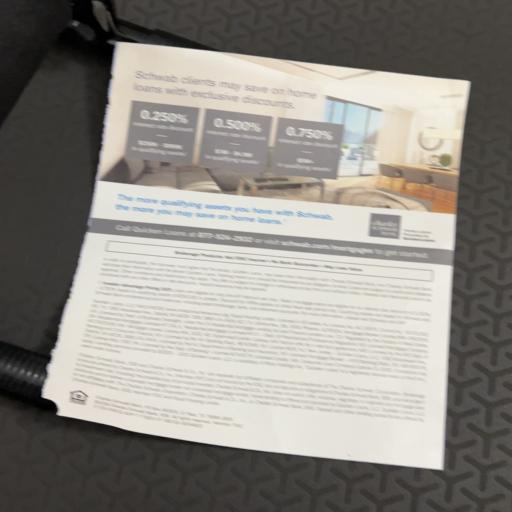paper: (39, 0, 441, 495)
